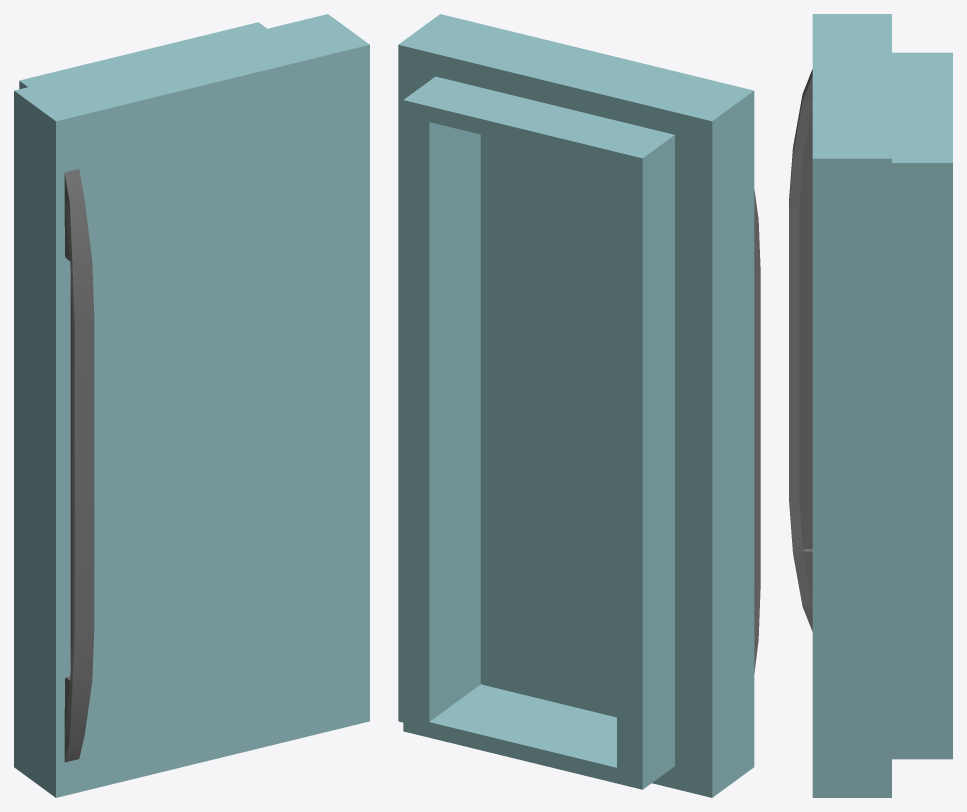
The model's file is Itr_Obj_Fridge1_Top_Door_Right_05.FBX.
The picture shows the model from 3 angles, left to right: view 1: azimuth 30°, elevation 25°; view 2: azimuth 150°, elevation 25°; view 3: azimuth 270°, elevation 25°; orthographic projection. The views are drawn at different scales.
Parts seen in each view (by area): view 1: Itr_Obj_Fridge1_Top_Door_Right_0; view 2: Itr_Obj_Fridge1_Top_Door_Right_0; view 3: Itr_Obj_Fridge1_Top_Door_Right_0.
Part boxes in pixels (x1,y1,x2,y2): Itr_Obj_Fridge1_Top_Door_Right_0: (14,14,369,797); Itr_Obj_Fridge1_Top_Door_Right_0: (398,14,760,797); Itr_Obj_Fridge1_Top_Door_Right_0: (789,14,952,797).
Size of the model in its own units: 22.45 by 46.23 by 10.74.
